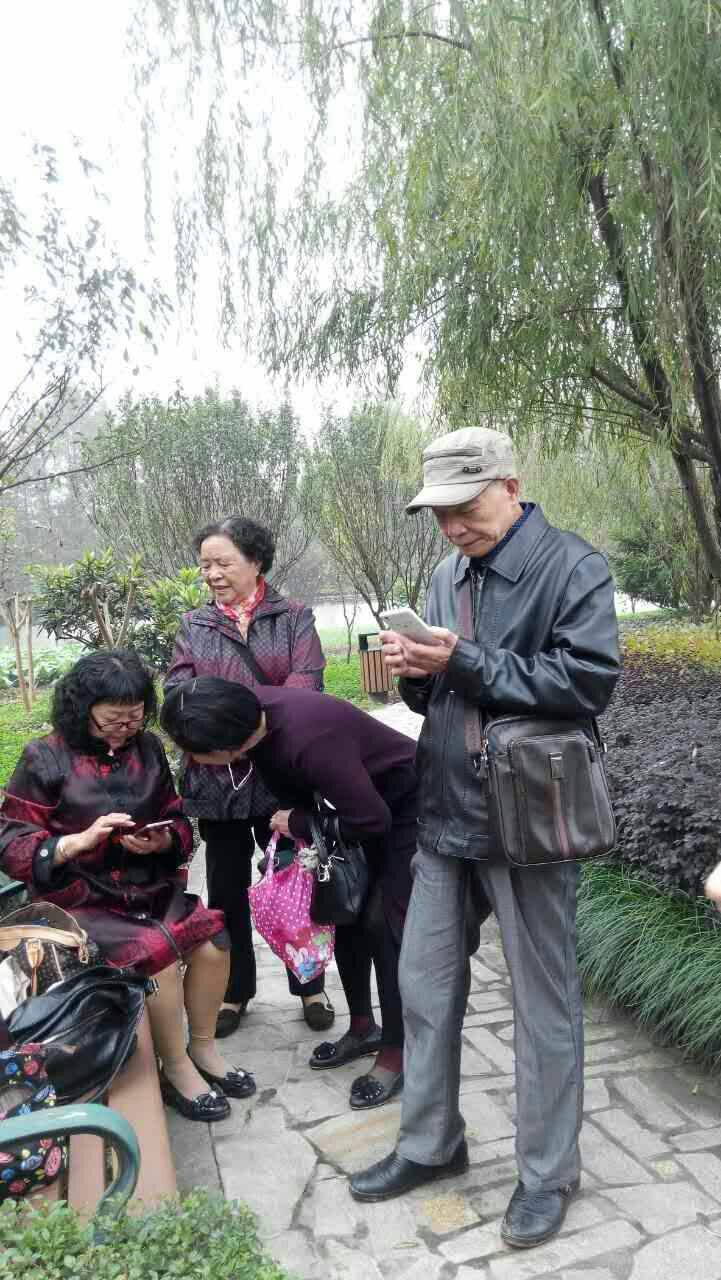reading: (377, 602, 452, 683)
